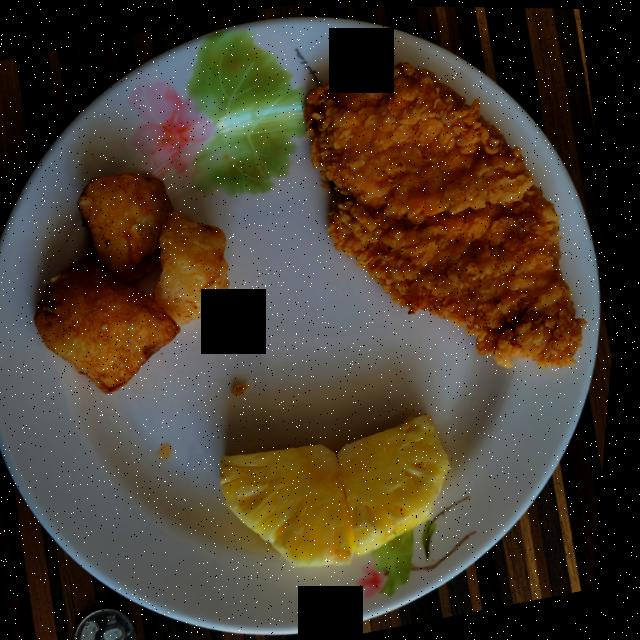coin: (84, 607, 146, 640)
fried chicken cutlet: (306, 62, 589, 365)
fried potato: (39, 172, 233, 392)
pineapple: (227, 412, 457, 565)
